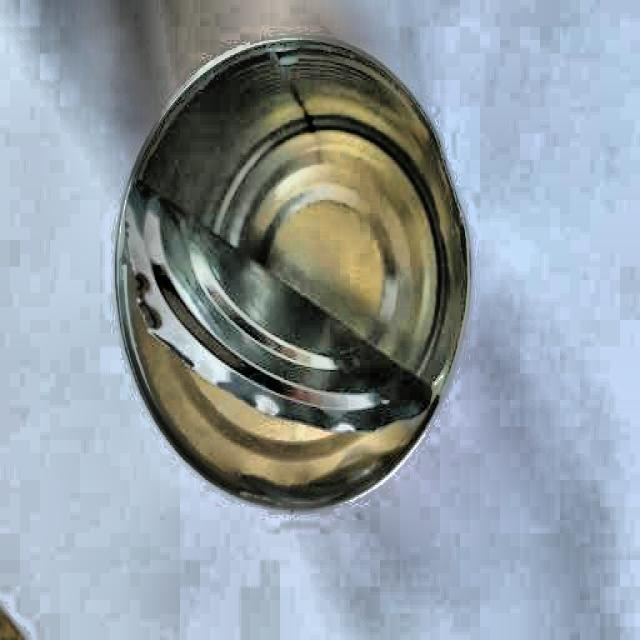metal: (109, 35, 468, 517)
